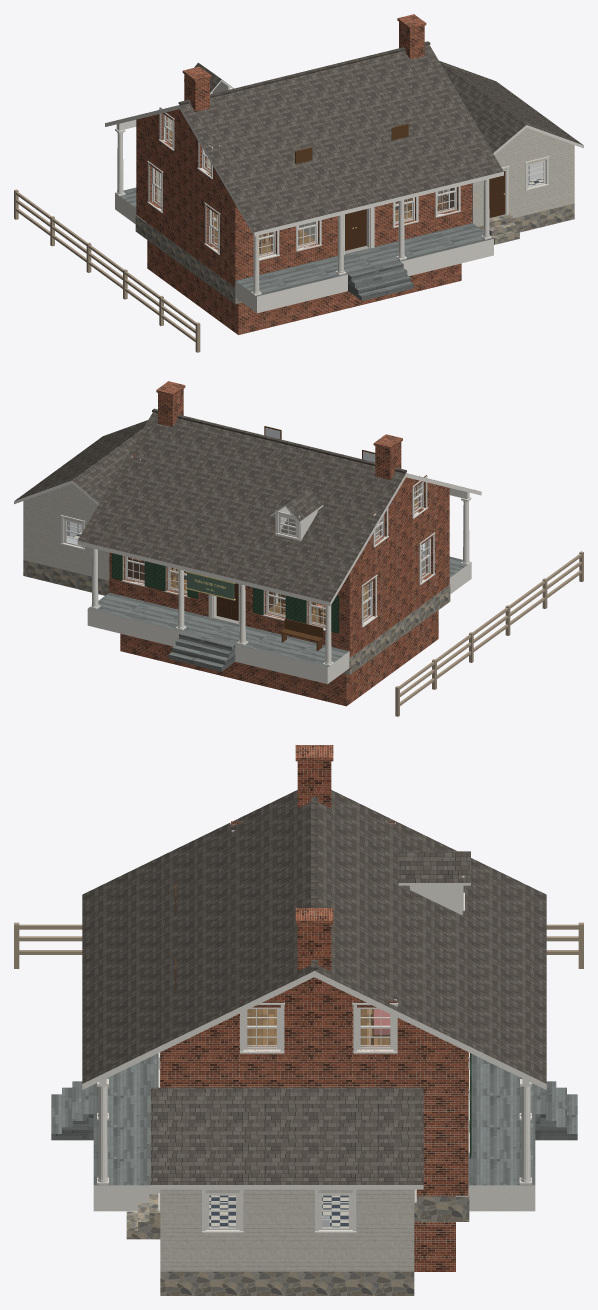
File: P-TAVERN.glb
3 views of the same model, one above another, from view 1: azimuth 30°, elevation 25°; view 2: azimuth 150°, elevation 25°; view 3: azimuth 270°, elevation 25° (orthographic). The views are drawn at different scales.
Parts seen in each view (by area): view 1: roof-col, shell-col, porch-col, wing-col, cellar-col, wing_roof-col, windows, fence-col, glass, stoop-col, door_kitchen_back__n, floors-col (+2 smaller); view 2: roof-col, shell-col, porch-col, cellar-col, wing-col, windows, wing_roof-col, fence-col, trim, glass, dormer-col, signs-col (+2 smaller); view 3: roof-col, wing_roof-col, wing-col, shell-col, porch-col, windows, dormer-col, glass, fence-col, cellar-col, floors-col, stoop-col.
Part boxes in pixels (x1=…): roof-col: x1=105, y1=14, x2=503, y2=236; shell-col: x1=135, y1=109, x2=472, y2=304; porch-col: x1=115, y1=119, x2=493, y2=313; wing-col: x1=445, y1=64, x2=574, y2=232; cellar-col: x1=147, y1=223, x2=461, y2=334; wing_roof-col: x1=439, y1=61, x2=583, y2=154; windows: x1=147, y1=72, x2=549, y2=260; fence-col: x1=14, y1=189, x2=200, y2=352; glass: x1=154, y1=116, x2=542, y2=255; stoop-col: x1=489, y1=214, x2=519, y2=244; door_kitchen_back__n: x1=489, y1=171, x2=505, y2=217; floors-col: x1=169, y1=131, x2=444, y2=254; roof-col: x1=77, y1=381, x2=481, y2=606; shell-col: x1=109, y1=477, x2=450, y2=674; porch-col: x1=87, y1=488, x2=471, y2=683; cellar-col: x1=120, y1=593, x2=438, y2=706; wing-col: x1=23, y1=424, x2=139, y2=595; windows: x1=60, y1=456, x2=435, y2=630; wing_roof-col: x1=14, y1=420, x2=147, y2=504; fence-col: x1=395, y1=551, x2=583, y2=716; trim: x1=111, y1=453, x2=434, y2=633; glass: x1=67, y1=483, x2=428, y2=625; dormer-col: x1=270, y1=487, x2=323, y2=541; signs-col: x1=185, y1=571, x2=235, y2=600; roof-col: x1=82, y1=745, x2=546, y2=1089; wing_roof-col: x1=151, y1=1087, x2=423, y2=1189; wing-col: x1=160, y1=1189, x2=414, y2=1295; shell-col: x1=160, y1=977, x2=469, y2=1221; porch-col: x1=51, y1=1053, x2=577, y2=1211; windows: x1=158, y1=822, x2=469, y2=1232; dormer-col: x1=398, y1=851, x2=470, y2=914; glass: x1=210, y1=1009, x2=389, y2=1227; fence-col: x1=14, y1=922, x2=583, y2=968; cellar-col: x1=414, y1=1196, x2=455, y2=1271; floors-col: x1=247, y1=1009, x2=390, y2=1045; stoop-col: x1=126, y1=1194, x2=160, y2=1239.
Size of what is drawn, in the model's own units: 20.55 by 10.38 by 15.14.
Materials: 35 (17 with a texture image).
